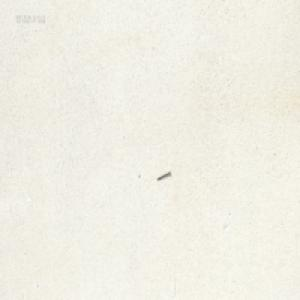Bolt: (156, 169, 170, 180)
